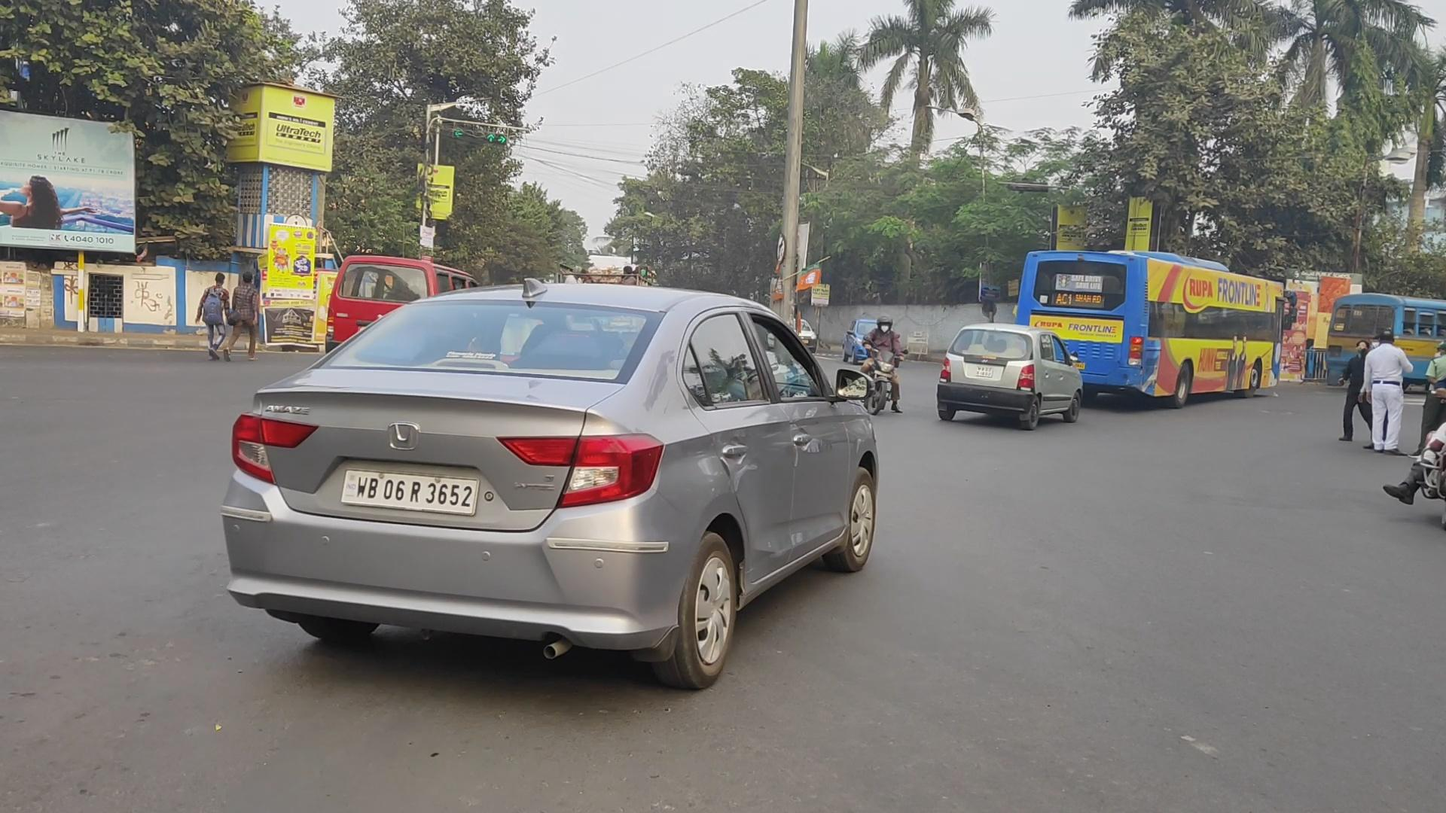Bus: (1015, 248, 1292, 409), (1325, 291, 1446, 393)
bike: (859, 315, 908, 415)
car: (221, 277, 880, 691), (324, 254, 494, 385), (936, 322, 1083, 430), (844, 316, 895, 367)
